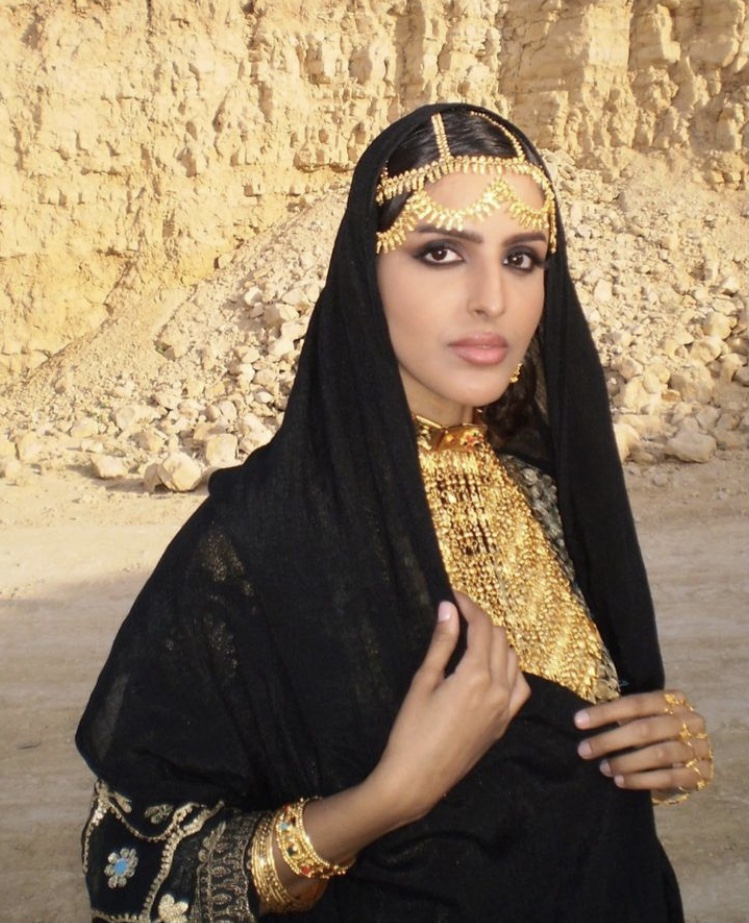Saudi_Founding_Day: (70, 98, 718, 923)
